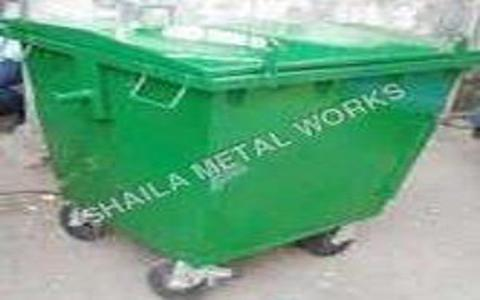Proper garbage: (11, 1, 473, 286)
